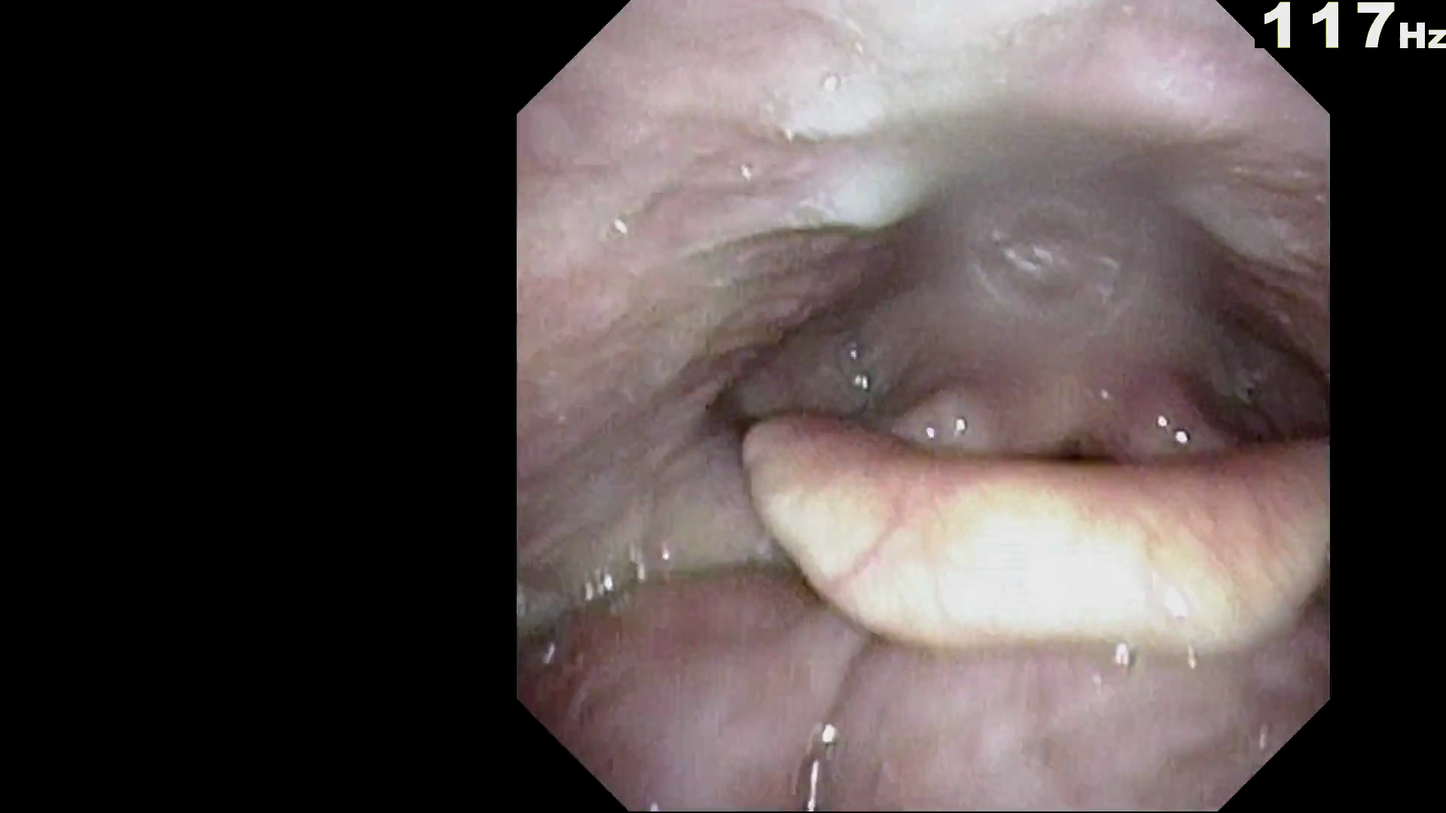epiglottis: (717, 408, 1304, 673)
